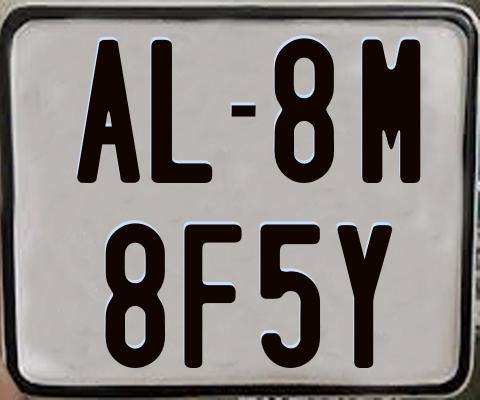5: (257, 221, 320, 365)
8: (274, 38, 338, 186), (103, 222, 163, 371)
A: (74, 37, 139, 185)
F: (184, 222, 248, 368)
L: (150, 40, 216, 186)
M: (360, 37, 420, 181)
Y: (335, 222, 392, 369)
